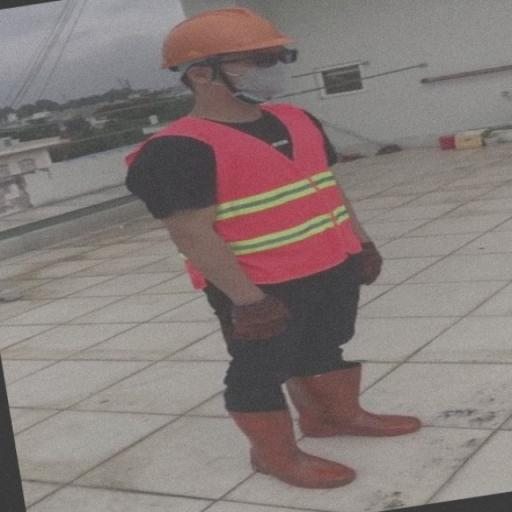Person: (66, 3, 464, 503)
boots: (224, 393, 362, 487), (281, 359, 427, 438)
gloves: (225, 296, 298, 350), (347, 234, 393, 294)
goggles: (186, 49, 299, 69)
helmet: (158, 5, 302, 67)
vest: (130, 104, 362, 294)
